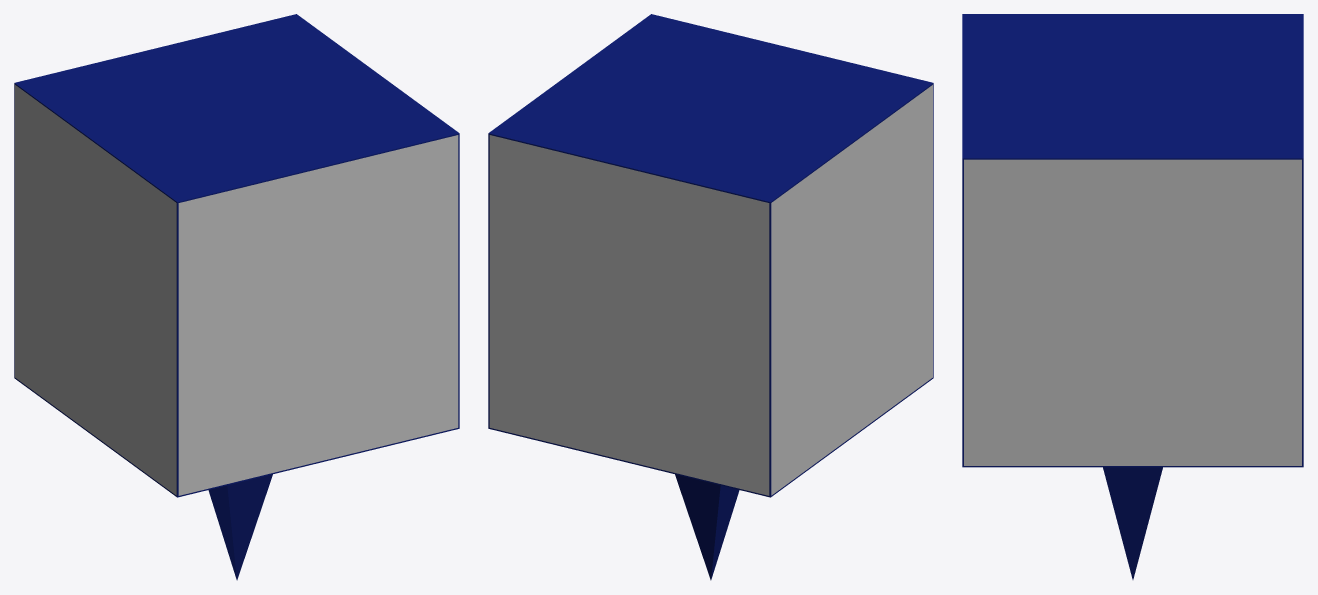
3 views of the same model, side by side, from view 1: azimuth 30°, elevation 25°; view 2: azimuth 150°, elevation 25°; view 3: azimuth 270°, elevation 25° (orthographic). The views are drawn at different scales.
Visible parts, largest first — view 1: Box001; view 2: Box001; view 3: Box001.
Part boxes in pixels (box(x1,y1,x2,y2)): Box001: box(14, 14, 459, 580); Box001: box(488, 14, 933, 580); Box001: box(962, 14, 1303, 579).
Size of the model in its own units: 0.03 by 0.03 by 0.048.
